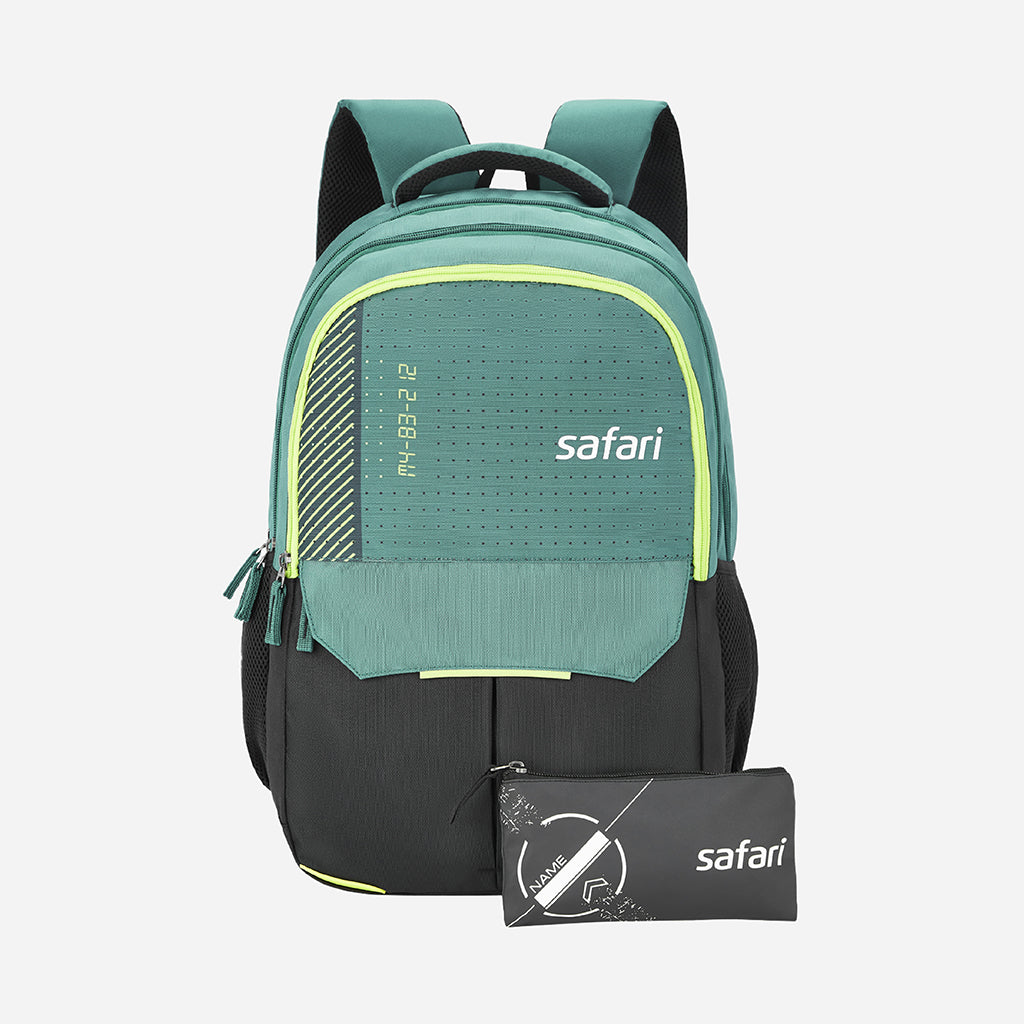backpack: (225, 95, 760, 897)
